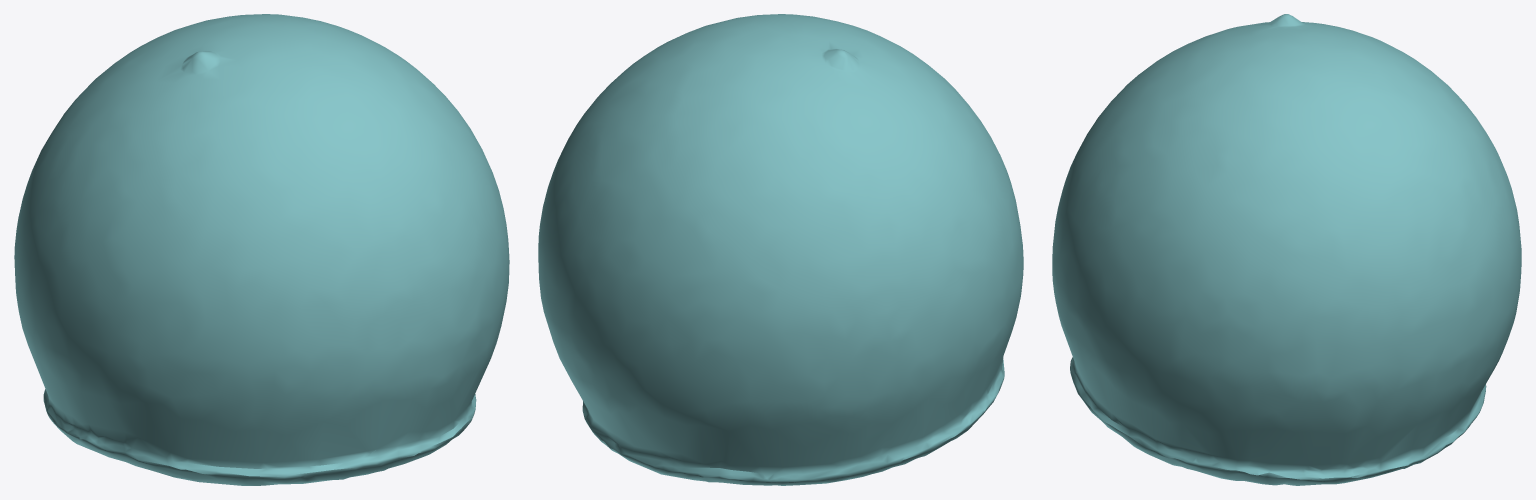
3 renders of one model, left to right at view 1: azimuth 30°, elevation 25°; view 2: azimuth 150°, elevation 25°; view 3: azimuth 270°, elevation 25°, orthographic. The views are drawn at different scales.
Parts seen in each view (by area): view 1: 右侧玻璃体; view 2: 右侧玻璃体; view 3: 右侧玻璃体.
Part boxes in pixels (bbox=[...]): 右侧玻璃体: bbox=[14, 14, 509, 485]; 右侧玻璃体: bbox=[538, 14, 1023, 485]; 右侧玻璃体: bbox=[1052, 14, 1521, 485].
Bounding box in the file's own units: 0.03 × 0.0261 × 0.0299.
